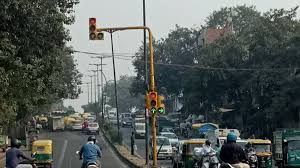signal: (147, 91, 158, 115), (88, 17, 95, 40), (96, 32, 103, 41)
